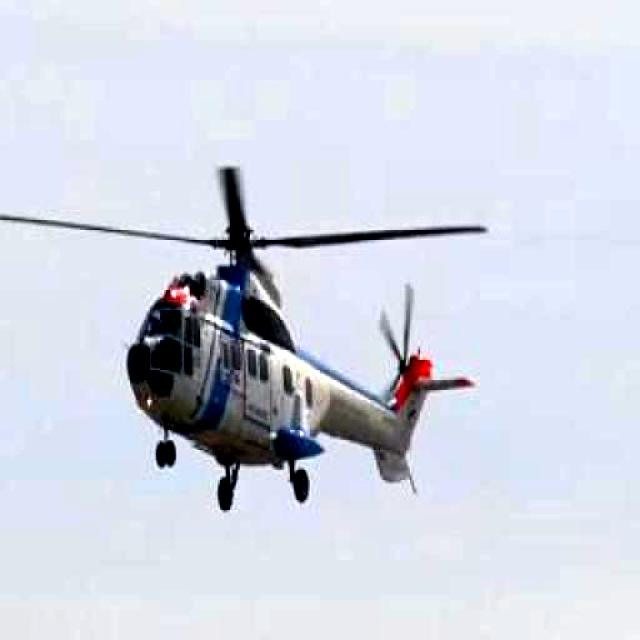drone: (0, 158, 510, 531)
